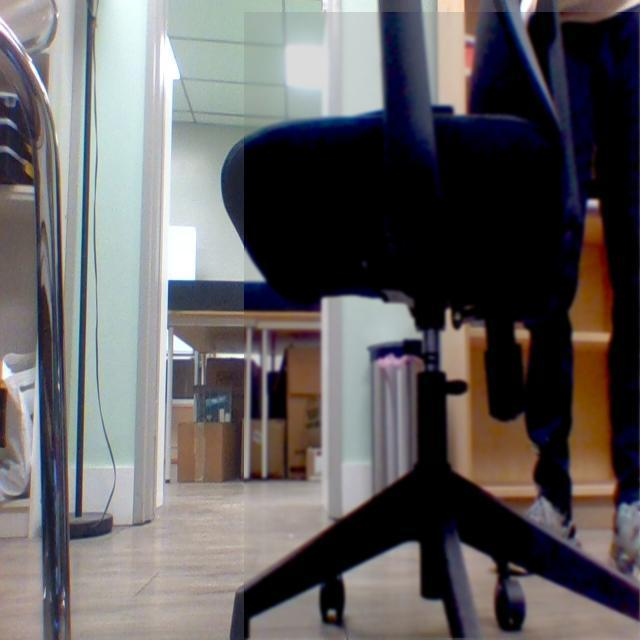chair: (213, 0, 640, 640)
